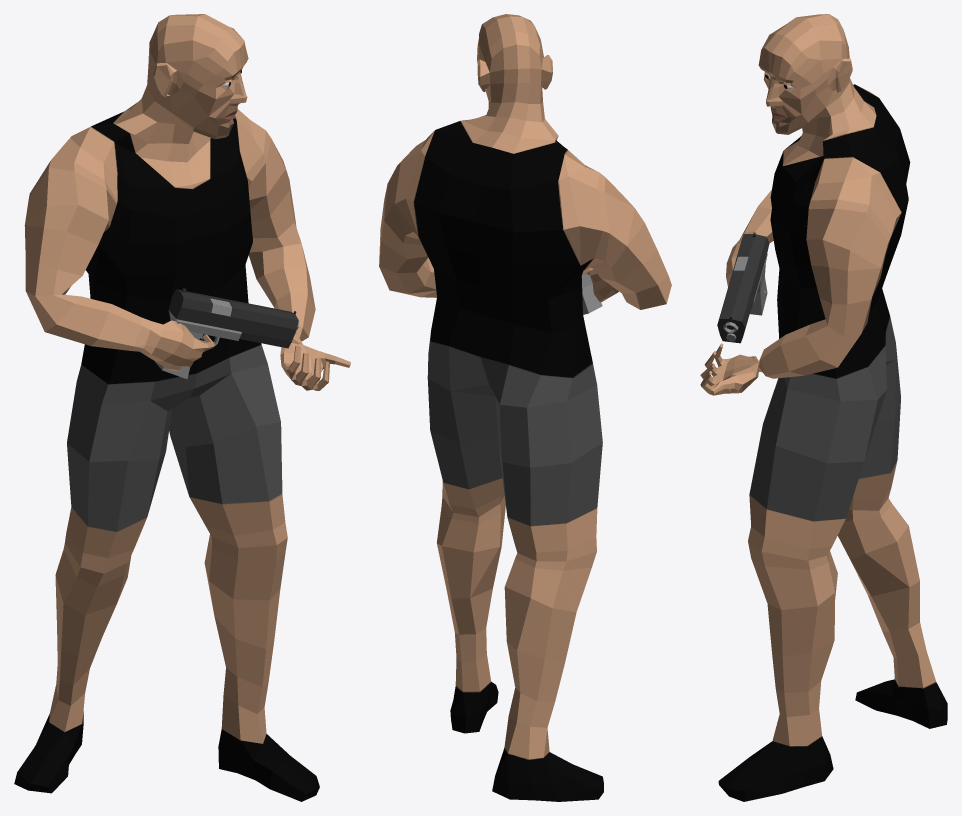
File: PlayerIdle(119).obj
3 renders of one model, left to right at view 1: azimuth 30°, elevation 25°; view 2: azimuth 150°, elevation 25°; view 3: azimuth 270°, elevation 25°, orthographic. The views are drawn at different scales.
Visible parts, largest first — view 1: Plane002, Box003; view 2: Plane002, Box003; view 3: Plane002, Box003.
Part boxes in pixels (box(x1,y1,x2,y2)): Plane002: box(14, 14, 350, 801); Box003: box(155, 288, 298, 379); Plane002: box(379, 14, 671, 801); Box003: box(581, 274, 602, 314); Plane002: box(700, 14, 947, 801); Box003: box(717, 232, 769, 343).
Size of the model in its own units: 700 by 1801 by 545.
